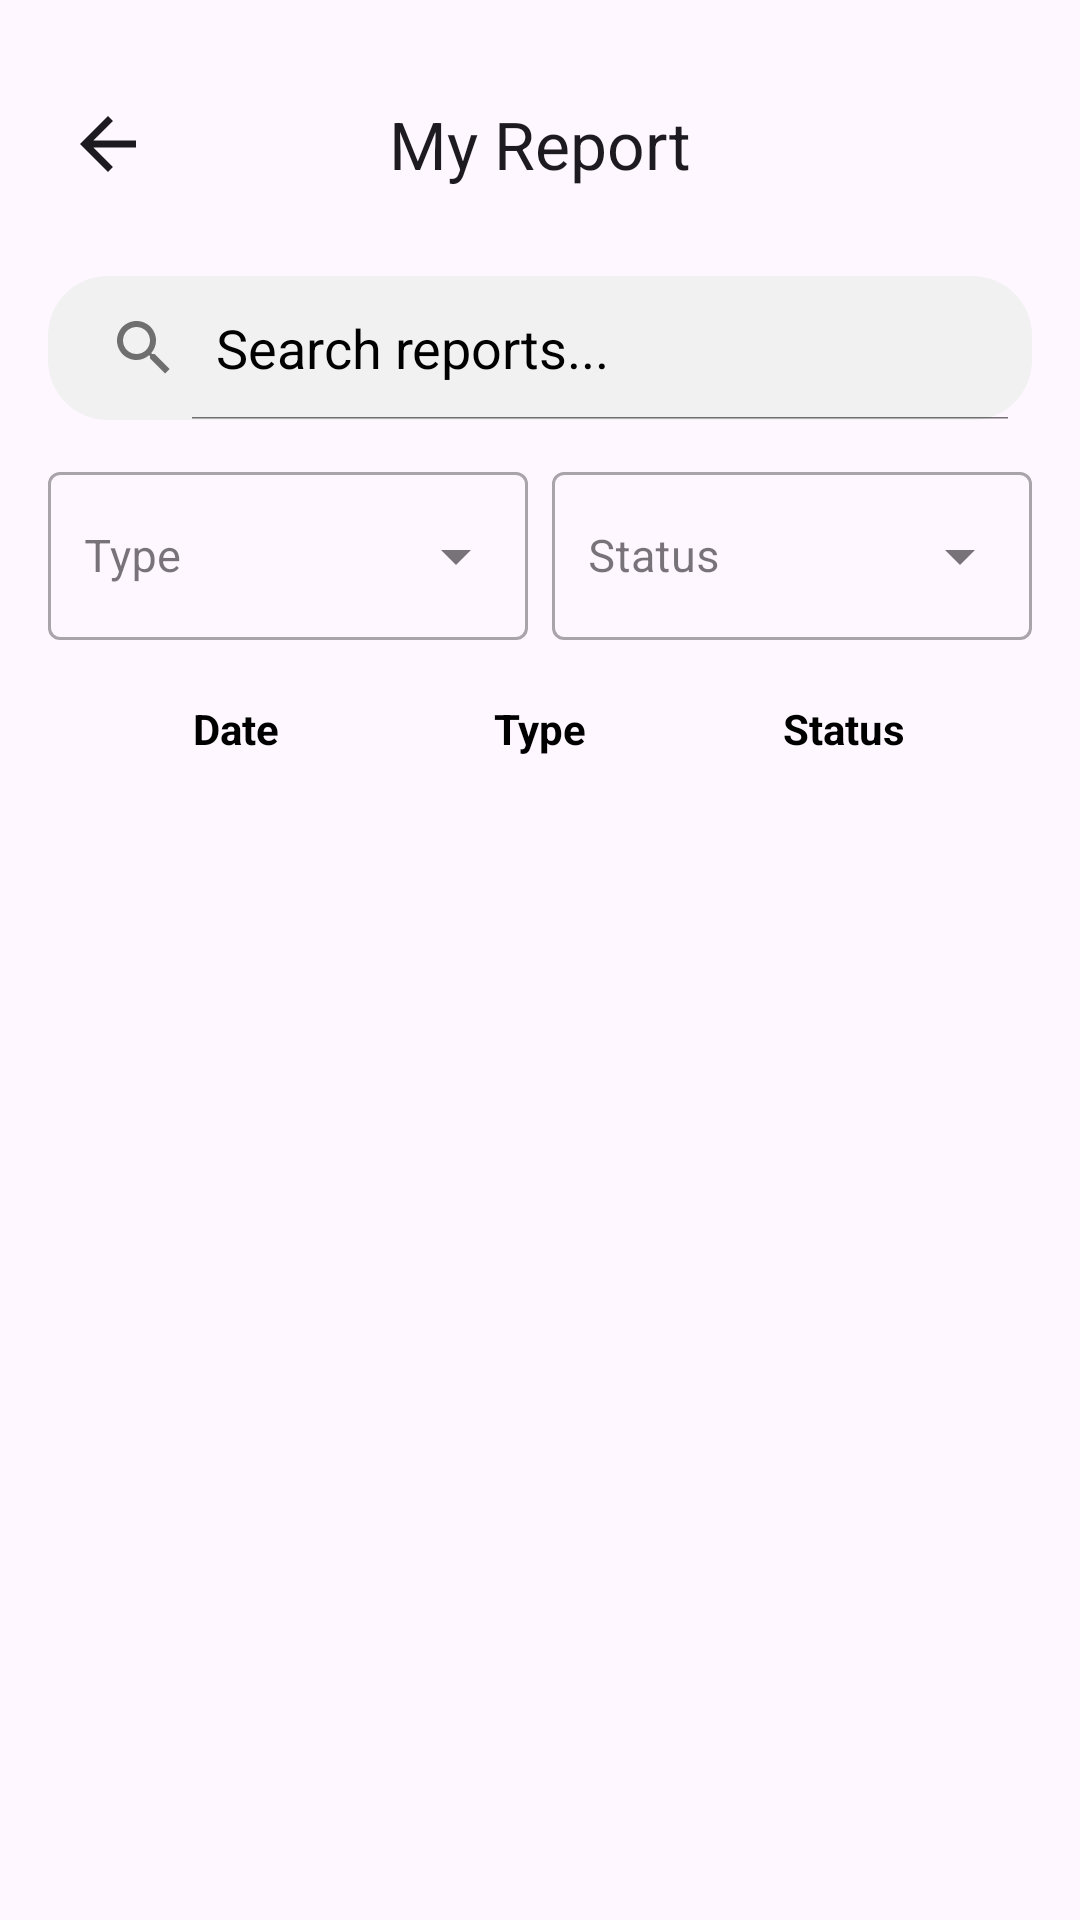

Icon click points for this 1080px×1920px phone screenshot, format (x,y):
Go back: (108,144)
